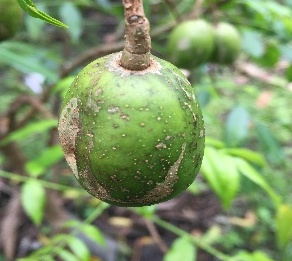Coc: (62, 49, 213, 222)
